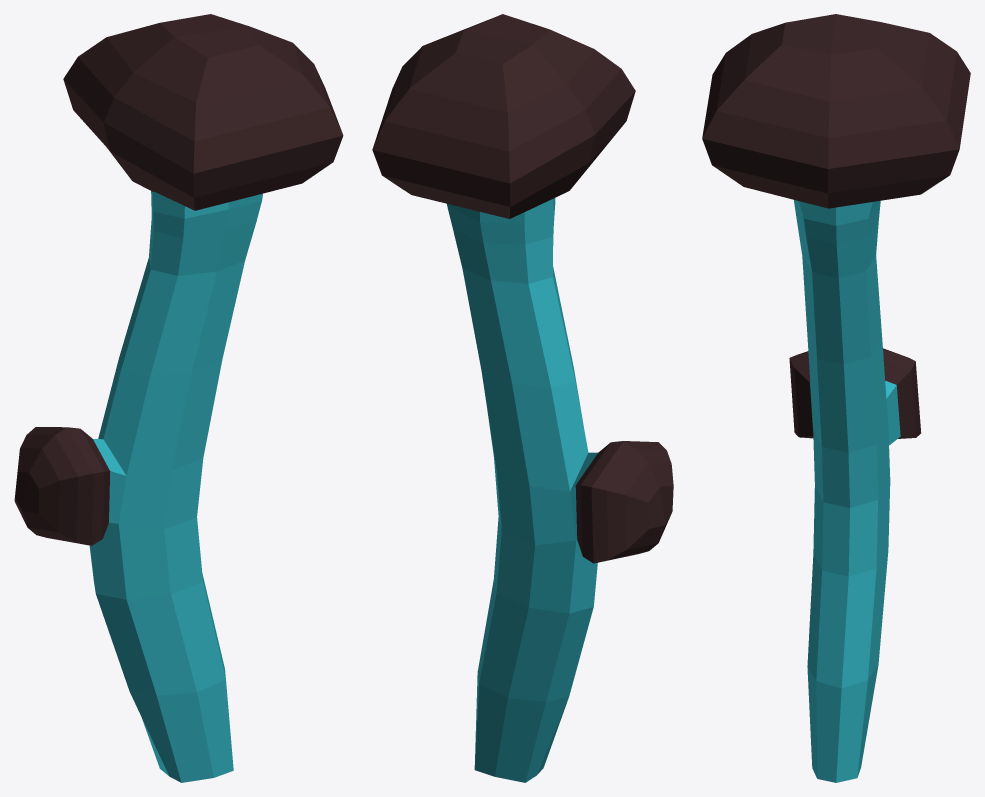
The model's file is Plant_mid.fbx.
3 views of the same model, side by side, from view 1: azimuth 30°, elevation 25°; view 2: azimuth 150°, elevation 25°; view 3: azimuth 270°, elevation 25° (orthographic).
Visible parts, largest first — view 1: Plant_mid; view 2: Plant_mid; view 3: Plant_mid.
Boxes of the visible parts, box(x1,y1,x2,y2) form: Plant_mid: box(14, 14, 343, 782); Plant_mid: box(372, 14, 673, 782); Plant_mid: box(702, 14, 970, 782).
Size of the model in its own units: 0.4065 by 0.9899 by 0.3255.
